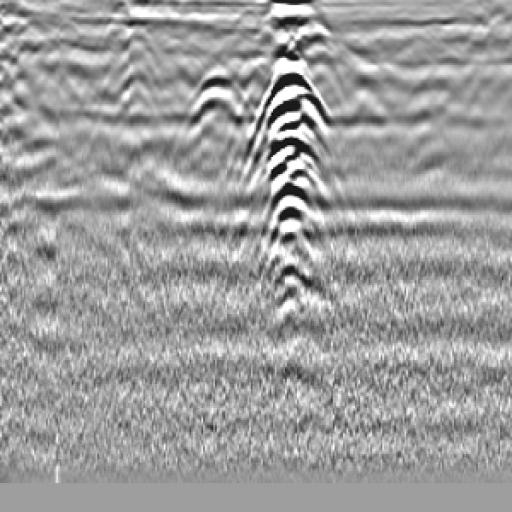metalic: (237, 35, 352, 334)
nonmetalic: (171, 42, 266, 145)
